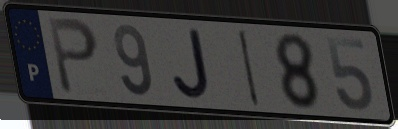5: (324, 35, 376, 113)
8: (271, 31, 323, 112)
9: (111, 21, 154, 99)
I: (236, 26, 262, 108)
J: (169, 26, 213, 102)
P: (45, 14, 101, 97)
